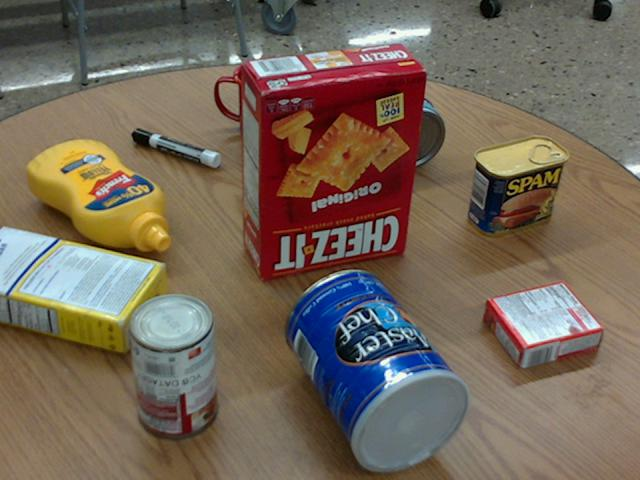cracker_box: (238, 41, 427, 280)
gelatin_box: (482, 279, 603, 366)
large_marker: (131, 128, 220, 167)
master_chef_can: (284, 268, 472, 472)
mug: (214, 58, 307, 147)
mustard_bottle: (27, 139, 169, 251)
potted_meat_can: (468, 135, 567, 236)
sugar_box: (0, 223, 166, 354)
tomato_soup_can: (129, 292, 219, 438)
tuna_fish_can: (369, 94, 444, 168)
